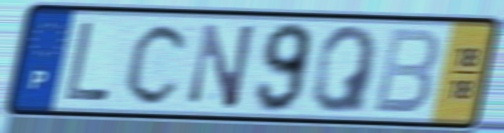9: (250, 19, 315, 117)
B: (370, 26, 442, 118)
C: (121, 20, 193, 108)
L: (61, 19, 114, 104)
N: (185, 20, 260, 112)
Q: (308, 23, 382, 116)
